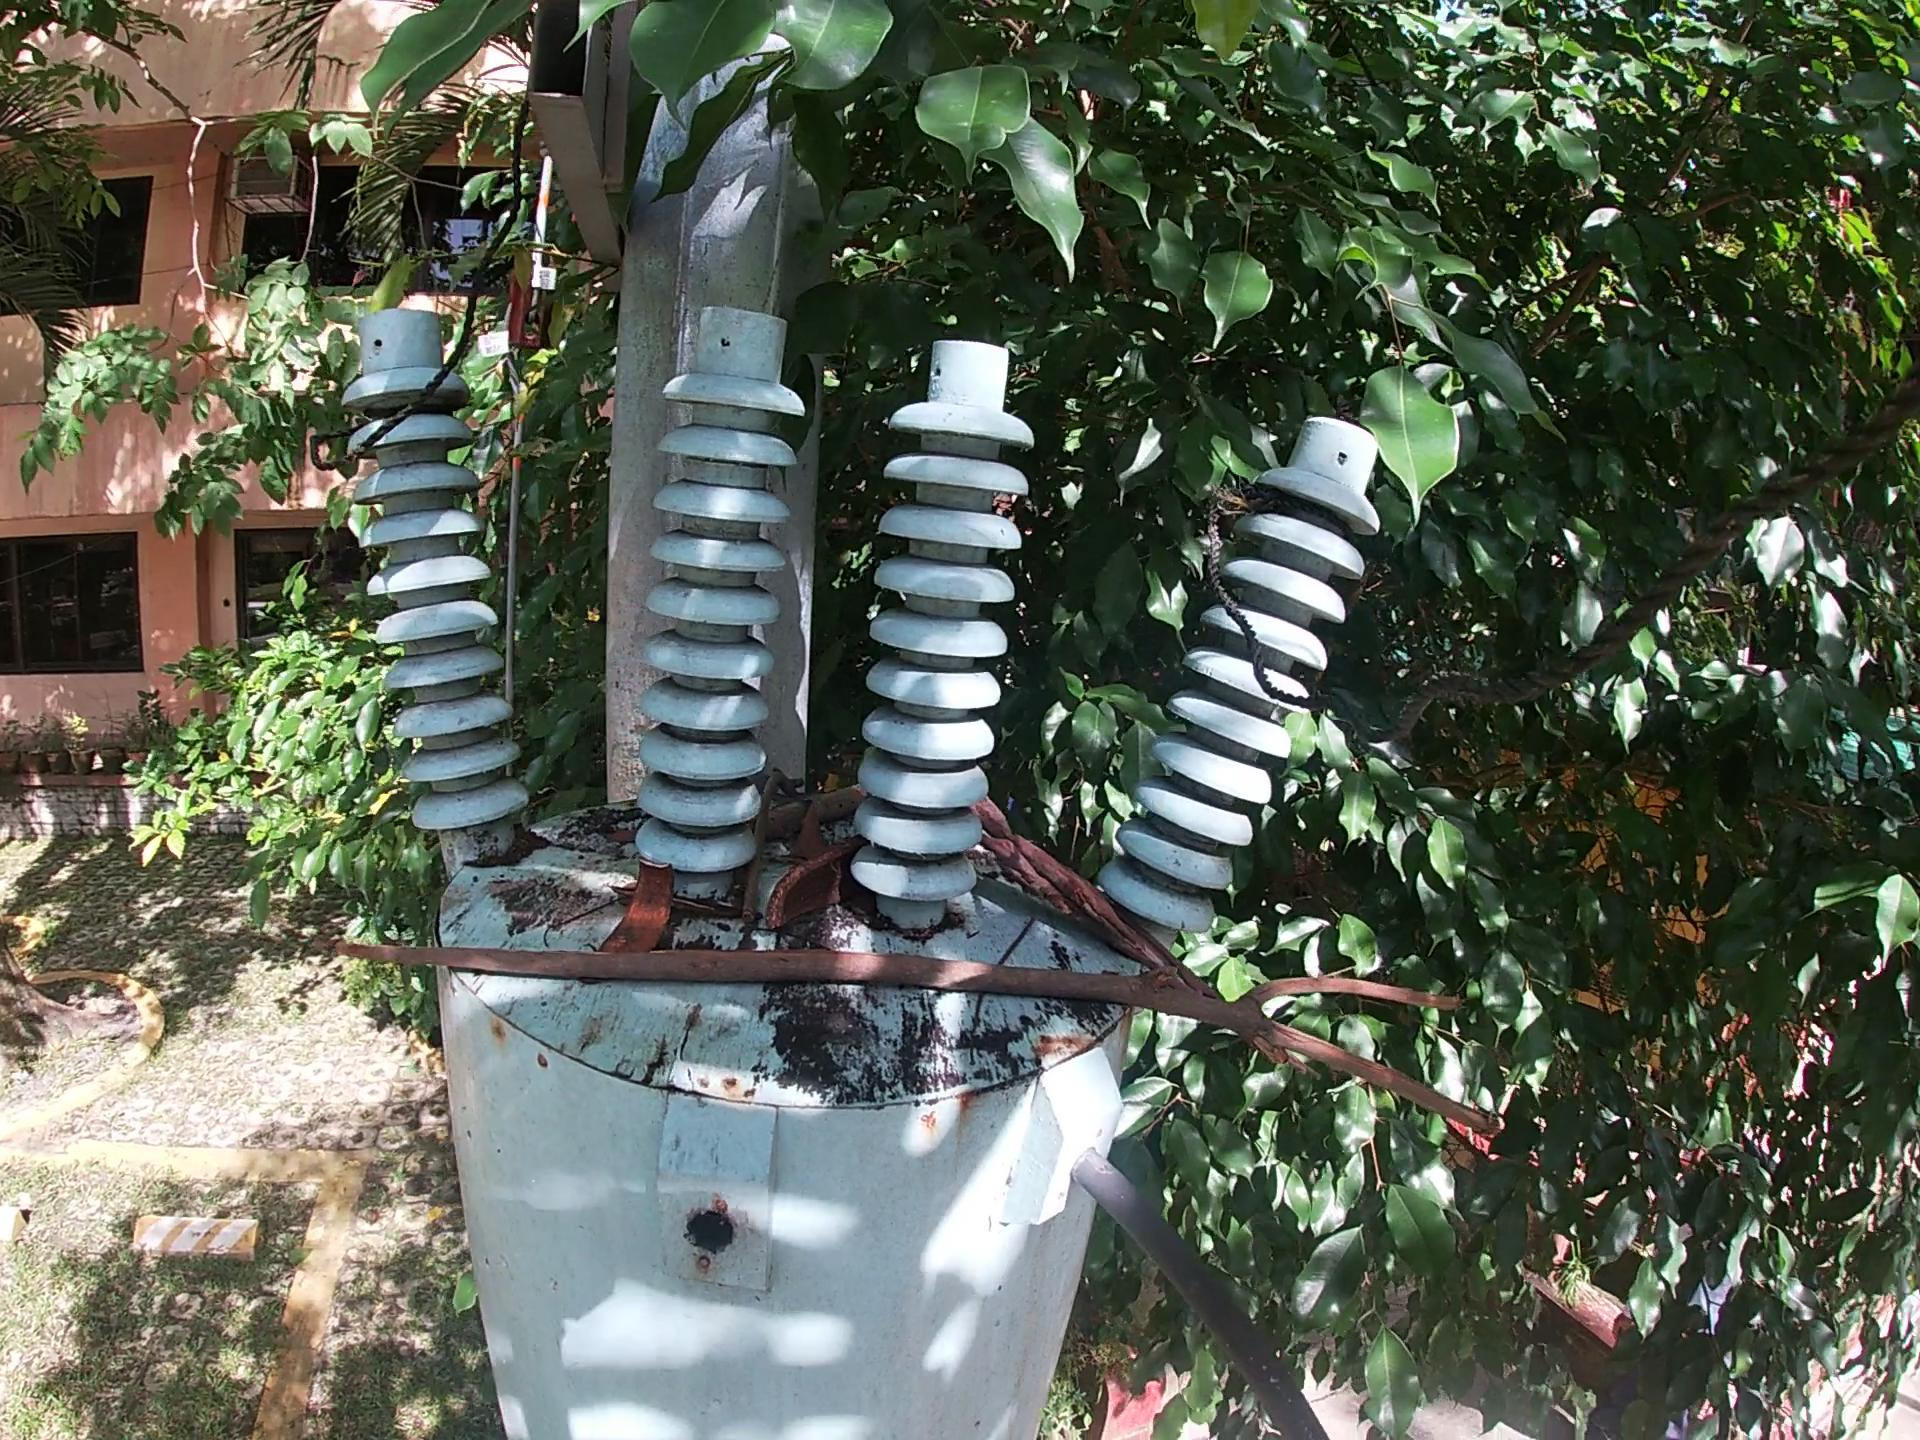leaf: (789, 802, 828, 864), (605, 826, 643, 849)
mahogany fruit: (762, 836, 878, 942), (593, 855, 688, 961)
tree branch: (324, 923, 1509, 1148), (974, 784, 1309, 1077), (732, 762, 818, 929), (754, 777, 874, 846)
